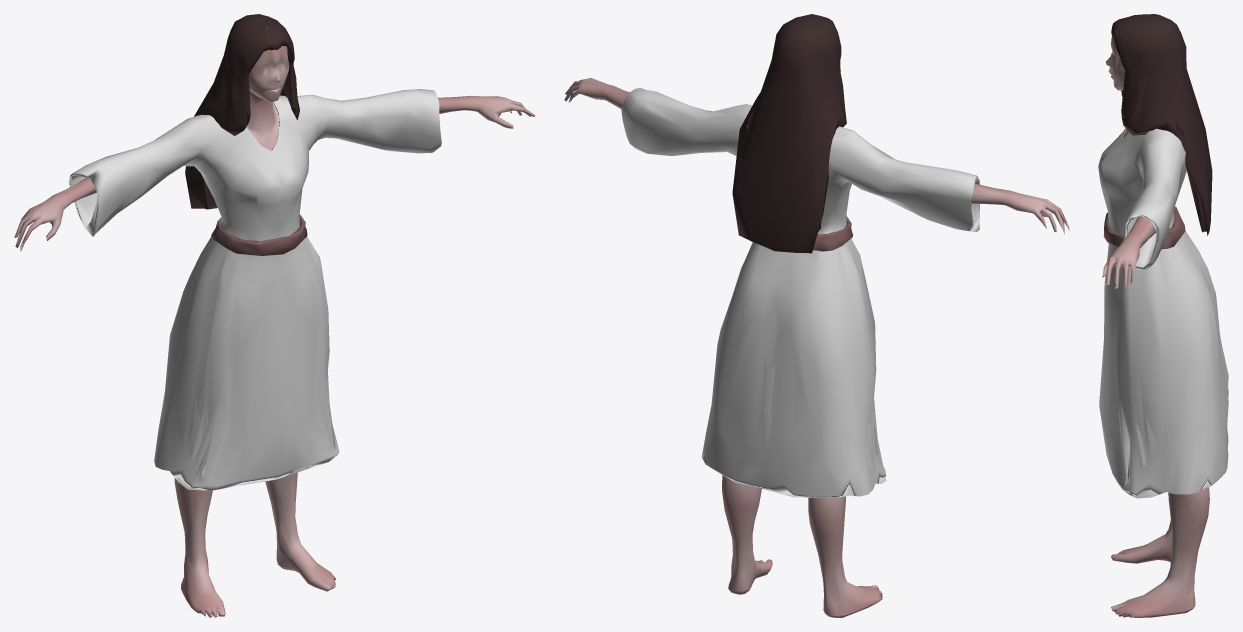
The model's file is woman.fbx.
The picture shows the model from 3 angles, left to right: view 1: azimuth 30°, elevation 25°; view 2: azimuth 150°, elevation 25°; view 3: azimuth 270°, elevation 25°; orthographic projection.
Parts seen in each view (by area): view 1: Merged_Extract28; view 2: Merged_Extract28; view 3: Merged_Extract28.
Part boxes in pixels (box(x1,y1,x2,y2)): Merged_Extract28: box(14, 14, 535, 617); Merged_Extract28: box(564, 14, 1069, 617); Merged_Extract28: box(1098, 14, 1228, 617).
Size of the model in its own units: 260 by 281 by 58.26.
